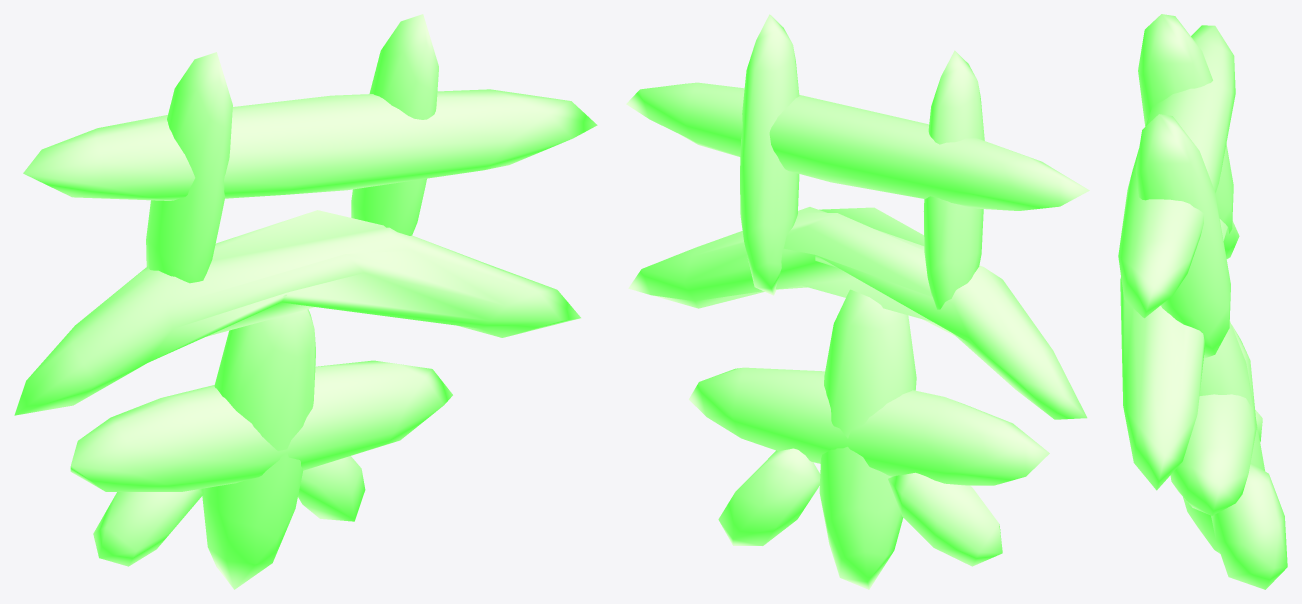
The model's file is SushiCity_Sign_NeonTea.fbx.
3 renders of one model, left to right at view 1: azimuth 30°, elevation 25°; view 2: azimuth 150°, elevation 25°; view 3: azimuth 270°, elevation 25°, orthographic. The views are drawn at different scales.
Visible parts, largest first — view 1: NeonSign_Tea; view 2: NeonSign_Tea; view 3: NeonSign_Tea.
Boxes of the visible parts, box(x1,y1,x2,y2) form: NeonSign_Tea: box(14, 14, 597, 589); NeonSign_Tea: box(626, 14, 1089, 589); NeonSign_Tea: box(1118, 14, 1287, 589).
Size of the model in its own units: 167 by 169 by 49.71.
